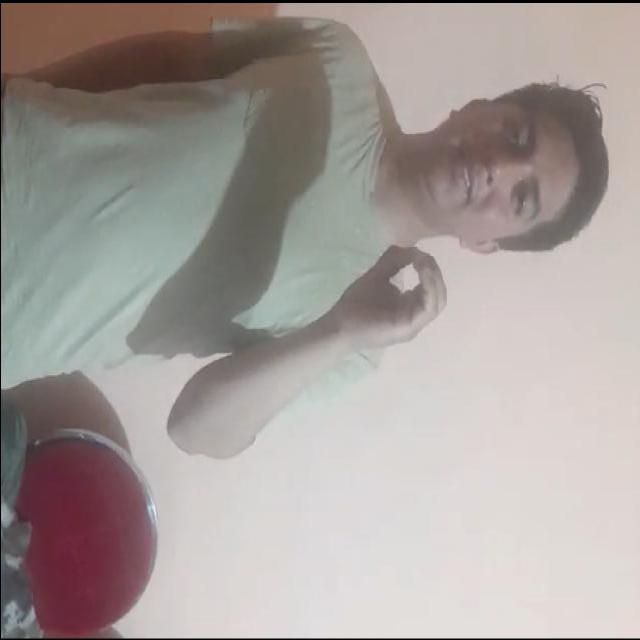O: (313, 223, 466, 355)
